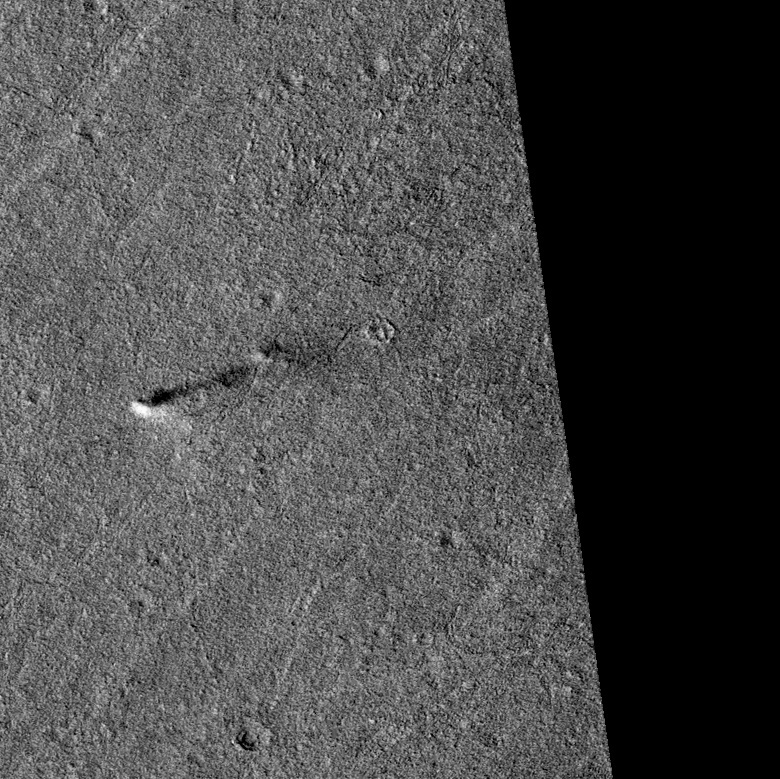dust_devil: (128, 362, 254, 422)
